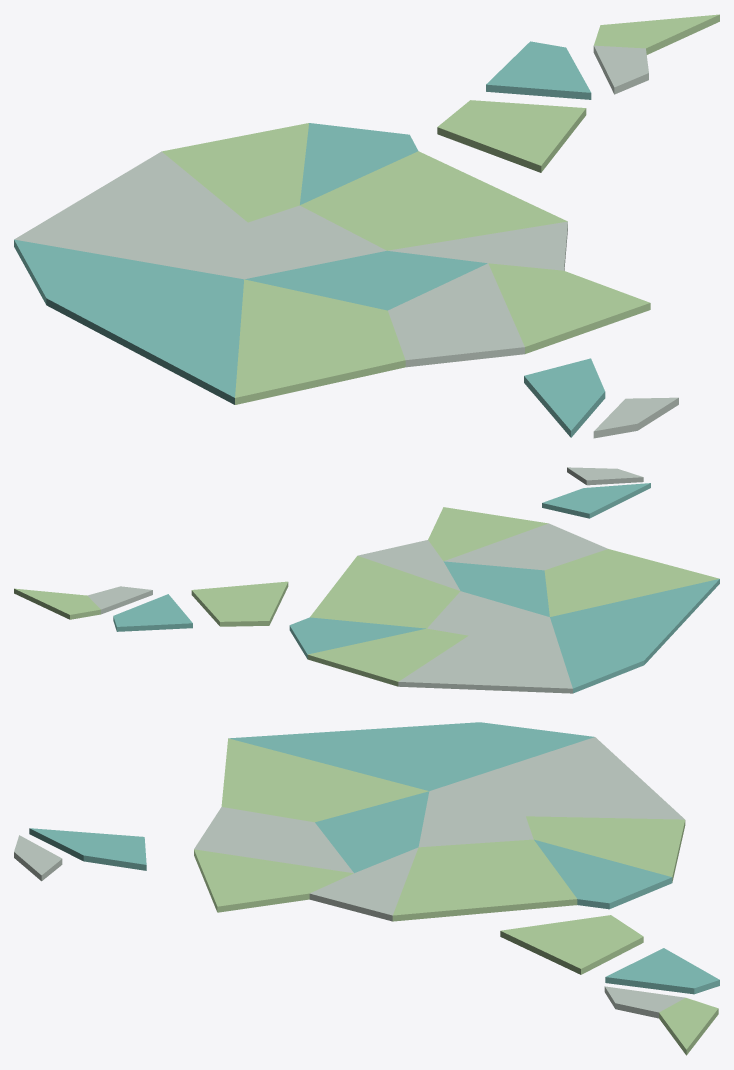
Rendered from Platform.fbx.
3 views of the same model, one above another, from view 1: azimuth 30°, elevation 25°; view 2: azimuth 150°, elevation 25°; view 3: azimuth 270°, elevation 25° (orthographic). The views are drawn at different scales.
Visible parts, largest first — view 1: Platform; view 2: Platform; view 3: Platform.
Boxes of the visible parts, x1=… form: Platform: x1=14, y1=14, x2=719, y2=438; Platform: x1=14, y1=467, x2=719, y2=693; Platform: x1=14, y1=722, x2=719, y2=1055.
Bounding box in the file's own units: 1612 × 1468 × 13.83.
